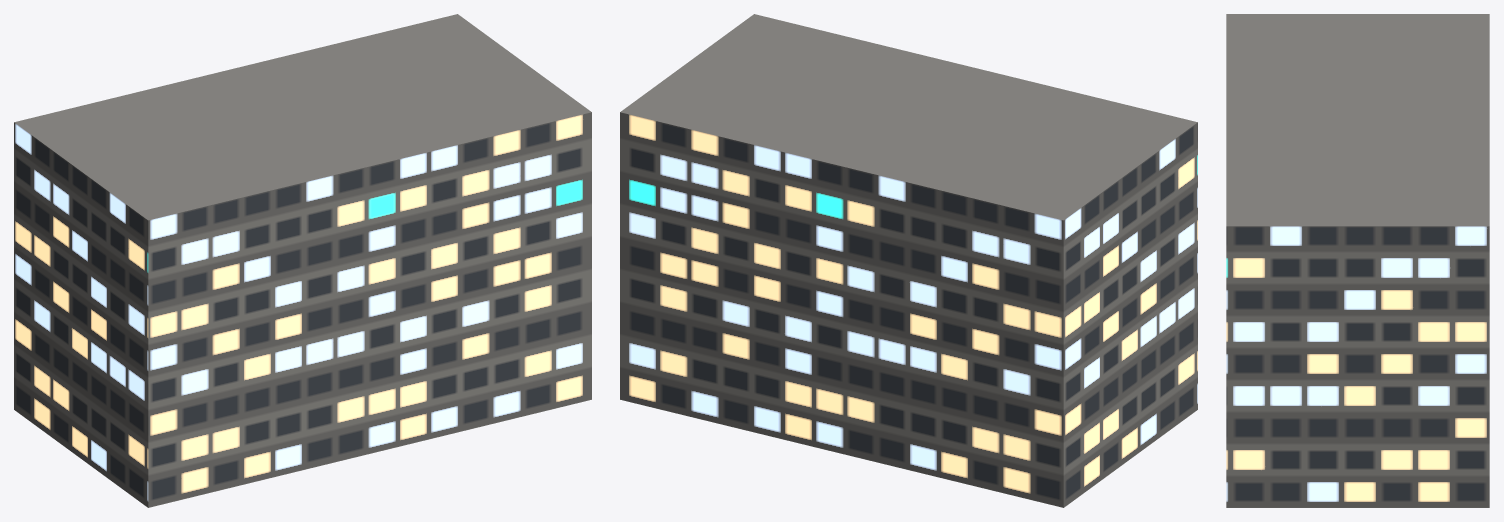
The model's file is building_c.glb.
The picture shows the model from 3 angles, left to right: view 1: azimuth 30°, elevation 25°; view 2: azimuth 150°, elevation 25°; view 3: azimuth 270°, elevation 25°; orthographic projection. The views are drawn at different scales.
Visible parts, largest first — view 1: batiment_slab; view 2: batiment_slab; view 3: batiment_slab.
Part boxes in pixels (x1,y1,x2,y2): batiment_slab: [14, 14, 591, 507]; batiment_slab: [620, 14, 1197, 507]; batiment_slab: [1226, 14, 1489, 507].
Bounding box in the file's own units: 42 × 26 × 22.
1 material, 1 textured.
